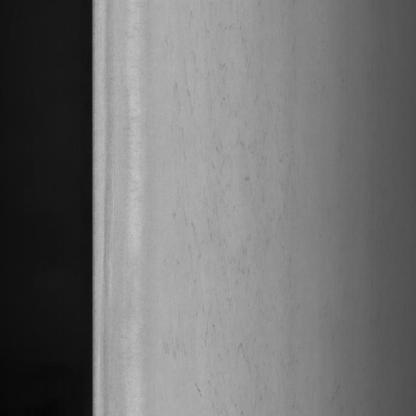silk_spot: (181, 51, 290, 395)
